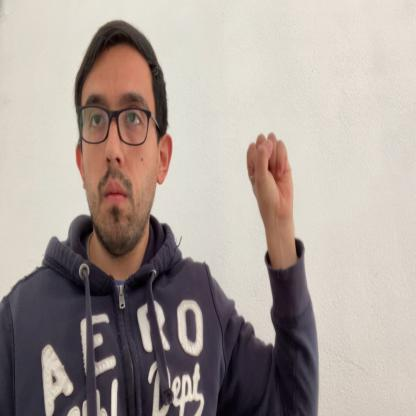S: (246, 132, 293, 231)
